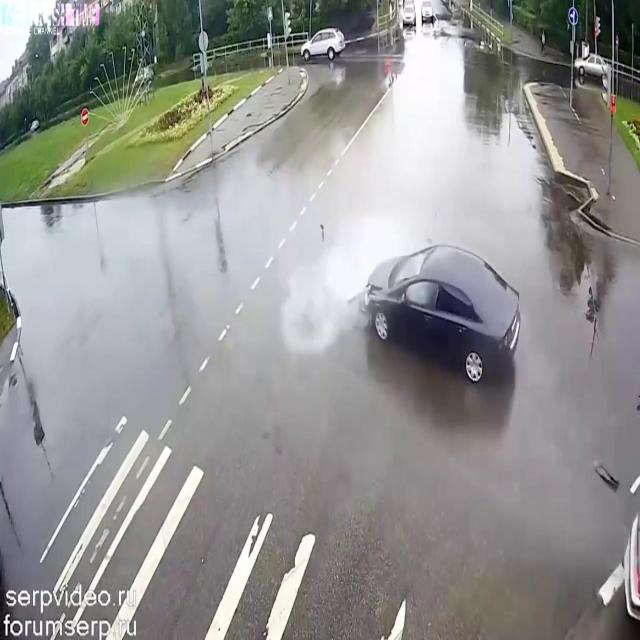accident: (342, 228, 532, 406)
